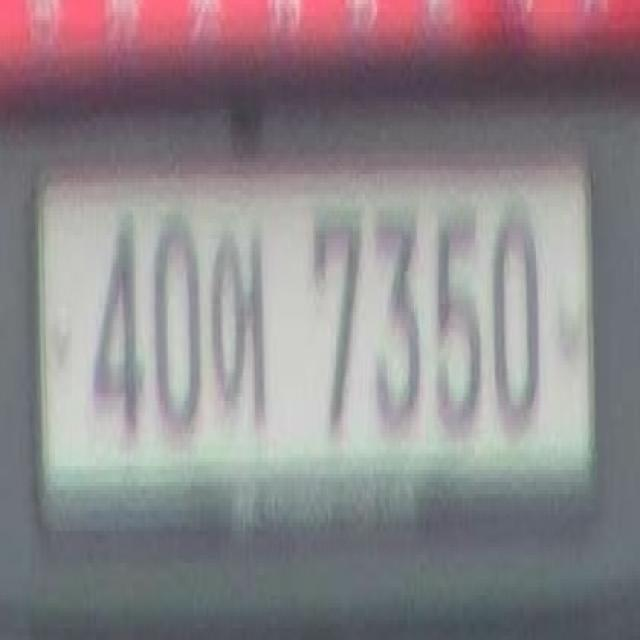0: (489, 206, 542, 442), (153, 219, 203, 433)
3: (370, 211, 423, 434)
4: (84, 206, 144, 442)
5: (429, 198, 483, 442)
7: (310, 202, 365, 438)
eo: (210, 211, 268, 425)
license_plate: (35, 146, 597, 502)
